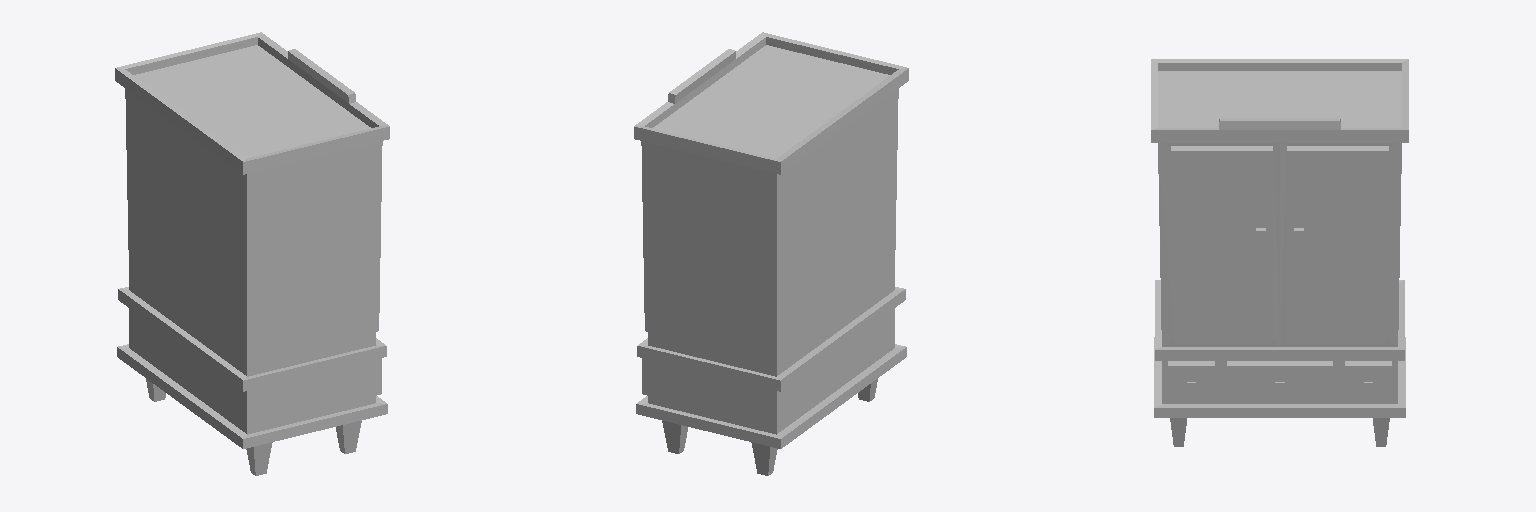
Rendered from Closet2.obj.
3 views of the same model, side by side, from view 1: azimuth 30°, elevation 25°; view 2: azimuth 150°, elevation 25°; view 3: azimuth 270°, elevation 25° (orthographic).
Visible parts, largest first — view 1: Closet2; view 2: Closet2; view 3: Closet2.
Part boxes in pixels (left/top/right/bottom): Closet2: left=115, top=32, right=389, bottom=475; Closet2: left=634, top=32, right=908, bottom=475; Closet2: left=1151, top=59, right=1408, bottom=446.
Size of the model in its own units: 0.4755 by 0.9958 by 0.6895.